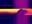Hotspot: (0, 9, 20, 13)
